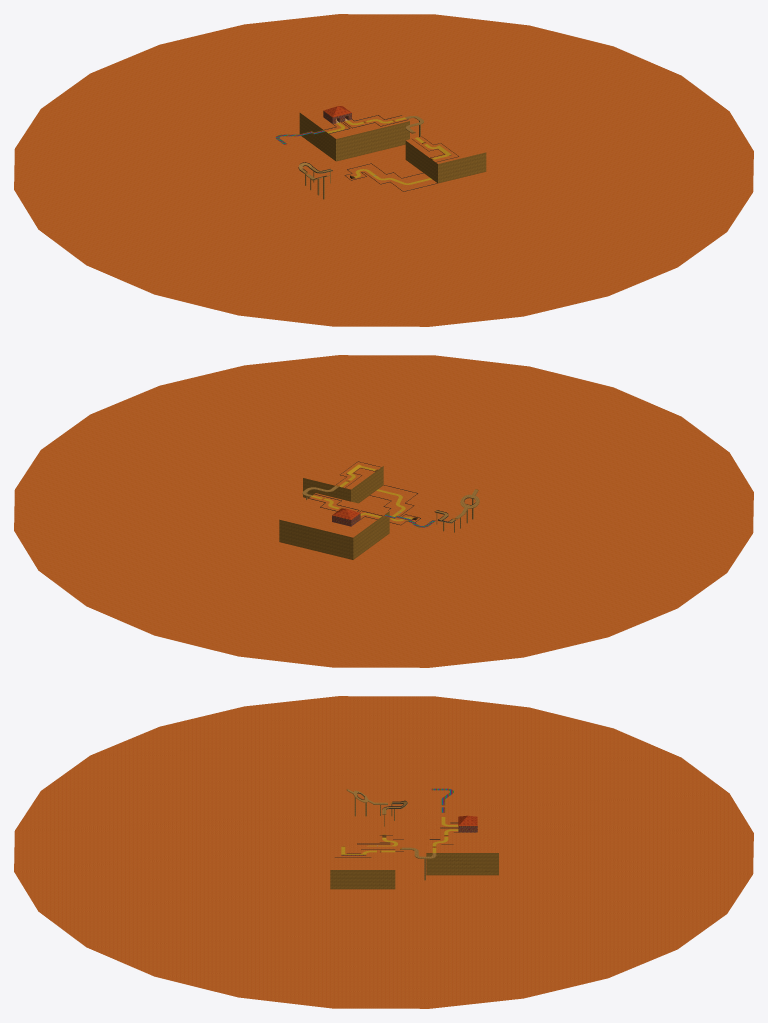
The picture shows the model from 3 angles, top to bottom: view 1: azimuth 30°, elevation 25°; view 2: azimuth 150°, elevation 25°; view 3: azimuth 270°, elevation 25°; orthographic projection.
Parts seen in each view (by area): view 1: Autumn_Air_SKP__Material1, Autumn_Air_SKP__Material3, Autumn_Air_SKP__Material2, Autumn_Air_SKP__Material9, Autumn_Air_SKP__Material5; view 2: Autumn_Air_SKP__Material1, Autumn_Air_SKP__Material3, Autumn_Air_SKP__Material5, Autumn_Air_SKP__Material2; view 3: Autumn_Air_SKP__Material1, Autumn_Air_SKP__Material3, Autumn_Air_SKP__Material5.
Boxes of the visible parts, x1,y1,x2,y2 form: Autumn_Air_SKP__Material1: (14, 14, 753, 326); Autumn_Air_SKP__Material3: (299, 113, 486, 183); Autumn_Air_SKP__Material2: (327, 117, 451, 184); Autumn_Air_SKP__Material9: (298, 115, 458, 191); Autumn_Air_SKP__Material5: (298, 116, 423, 199); Autumn_Air_SKP__Material1: (14, 355, 753, 667); Autumn_Air_SKP__Material3: (279, 466, 389, 559); Autumn_Air_SKP__Material5: (302, 486, 479, 532); Autumn_Air_SKP__Material2: (311, 464, 413, 521); Autumn_Air_SKP__Material1: (14, 696, 753, 1008); Autumn_Air_SKP__Material3: (330, 853, 498, 889); Autumn_Air_SKP__Material5: (347, 789, 436, 880).
Size of the model in its own units: 657290 by 33972 by 657290.
Materials: 11 (11 with a texture image).
